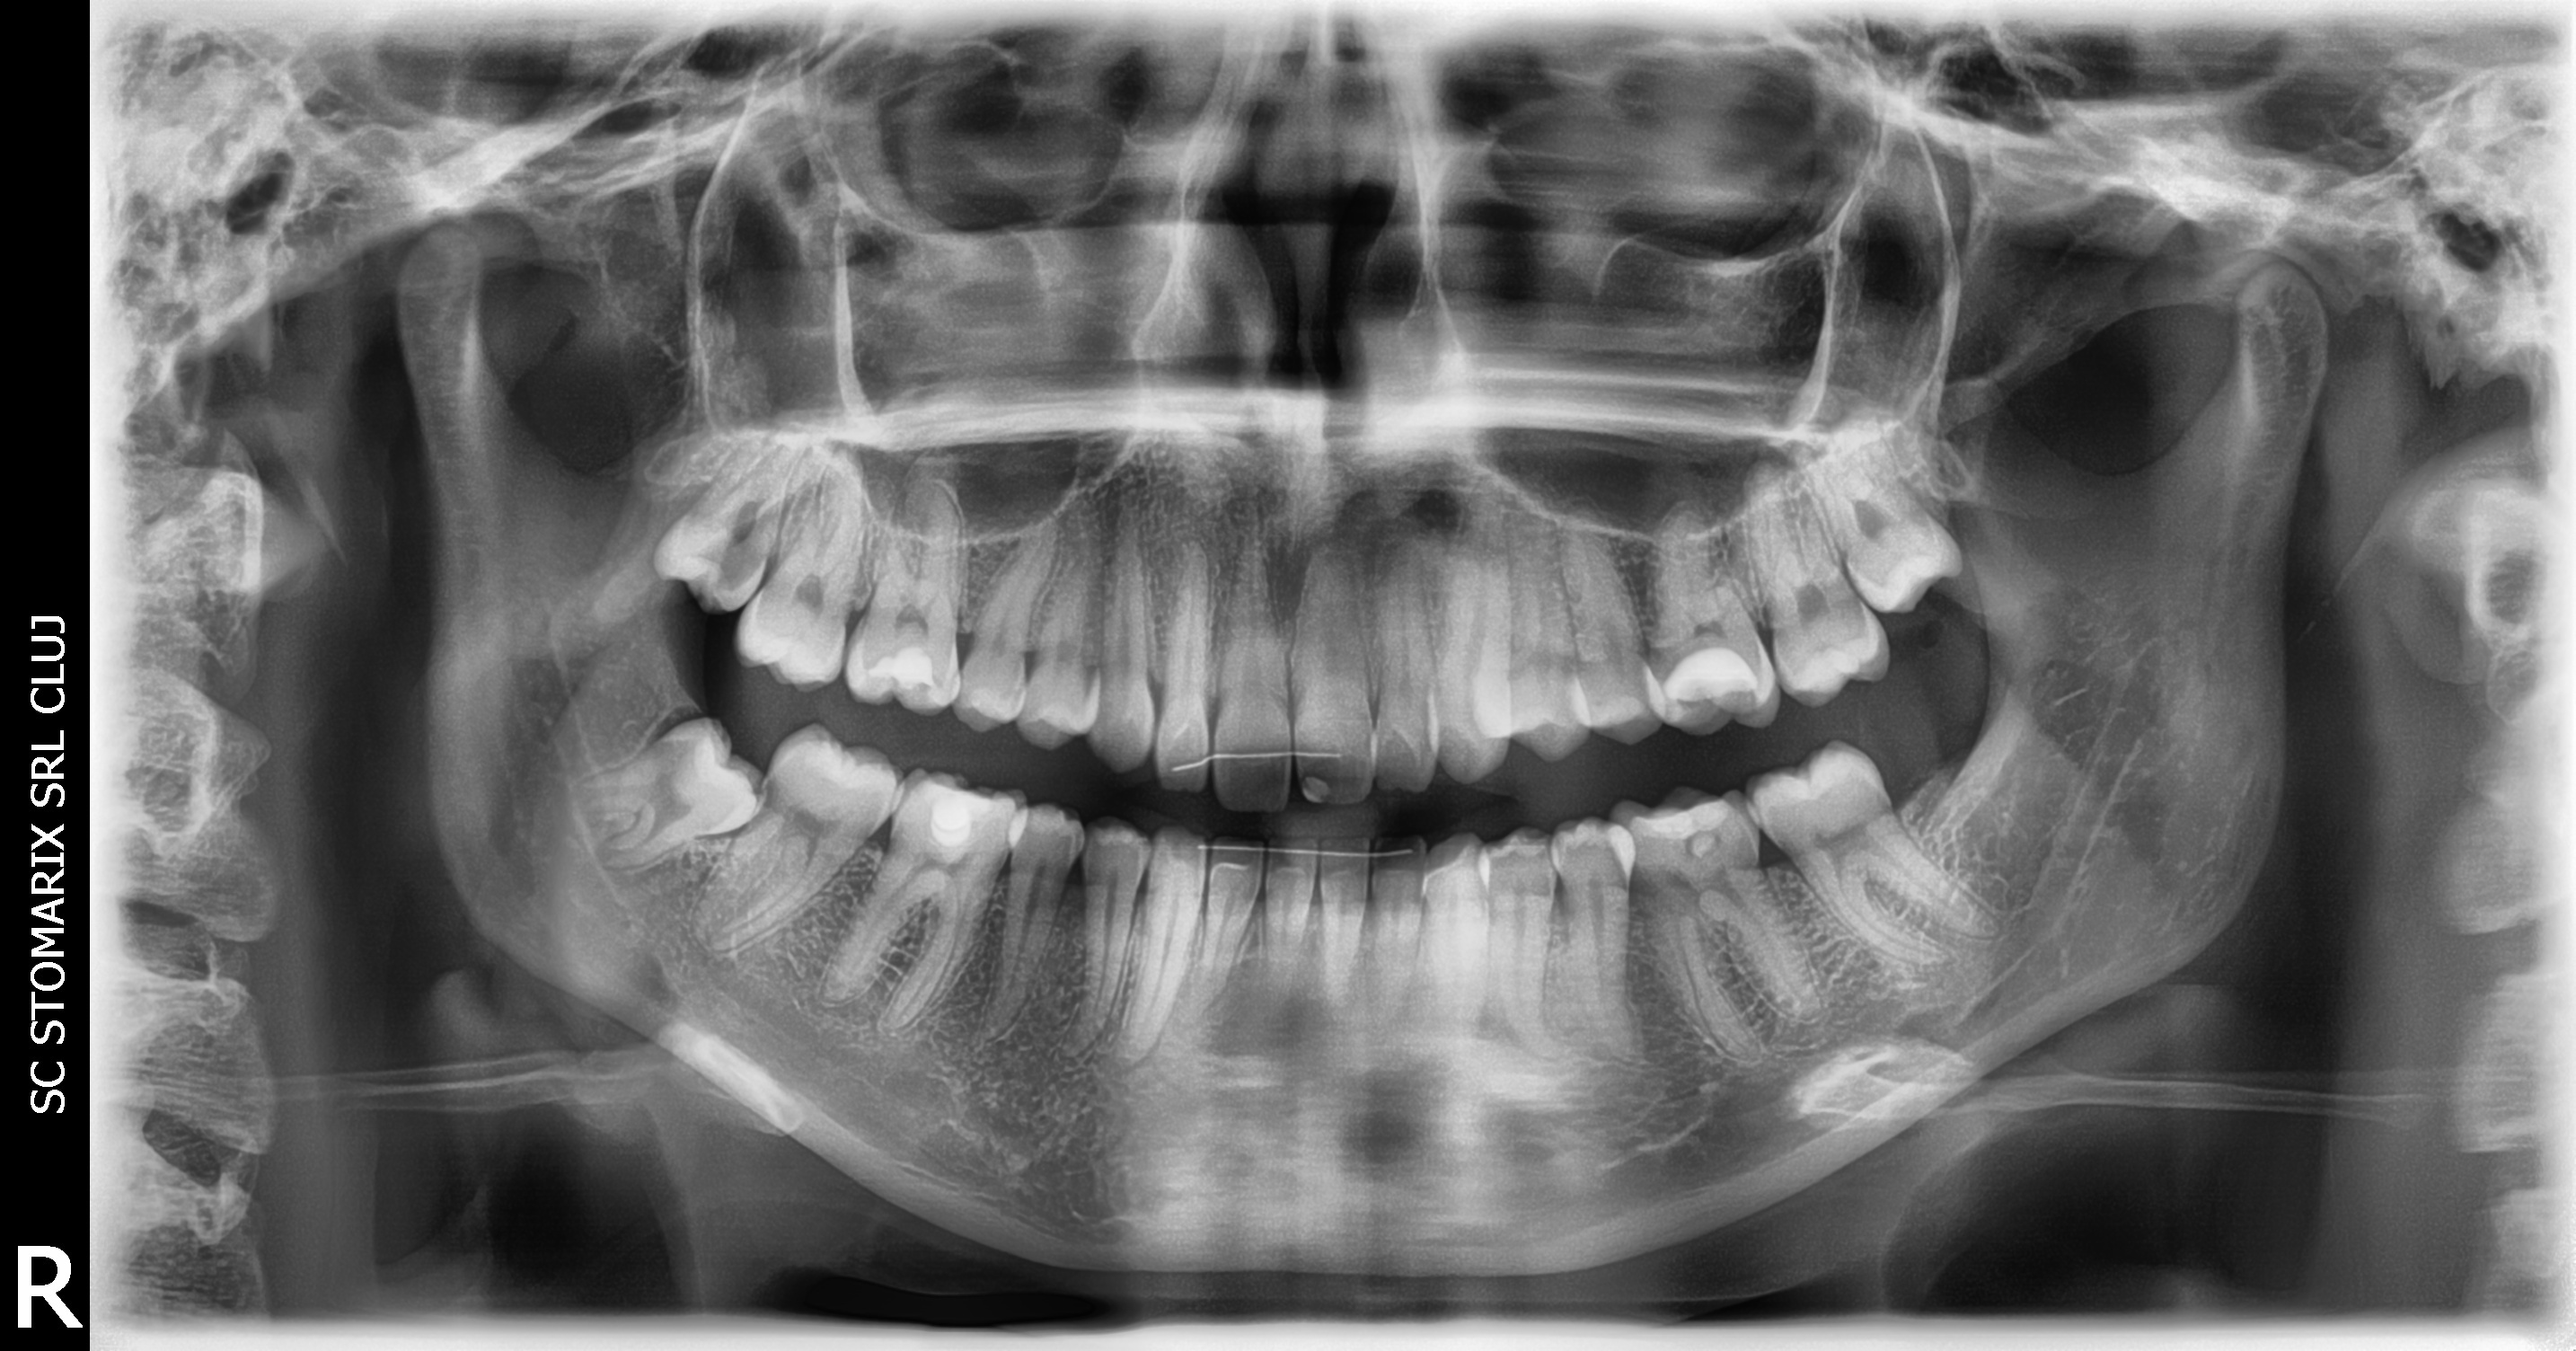CAR: (346, 356, 1124, 1191)
IMT: (193, 281, 959, 1150)
OBT: (399, 303, 1336, 992)
